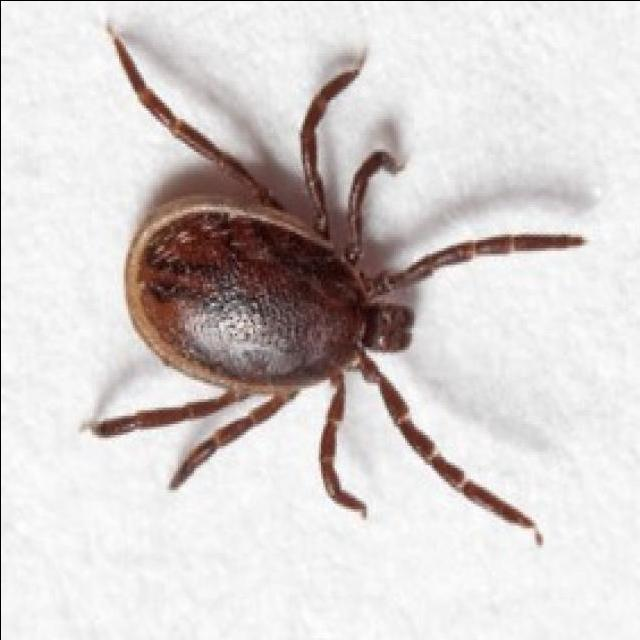Ixodes Ricinus-M: (84, 33, 583, 544)
